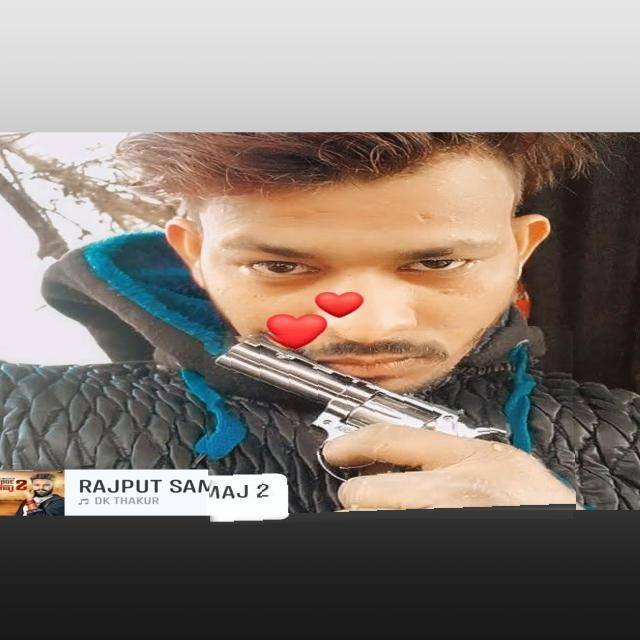Handgun: (205, 328, 575, 522)
